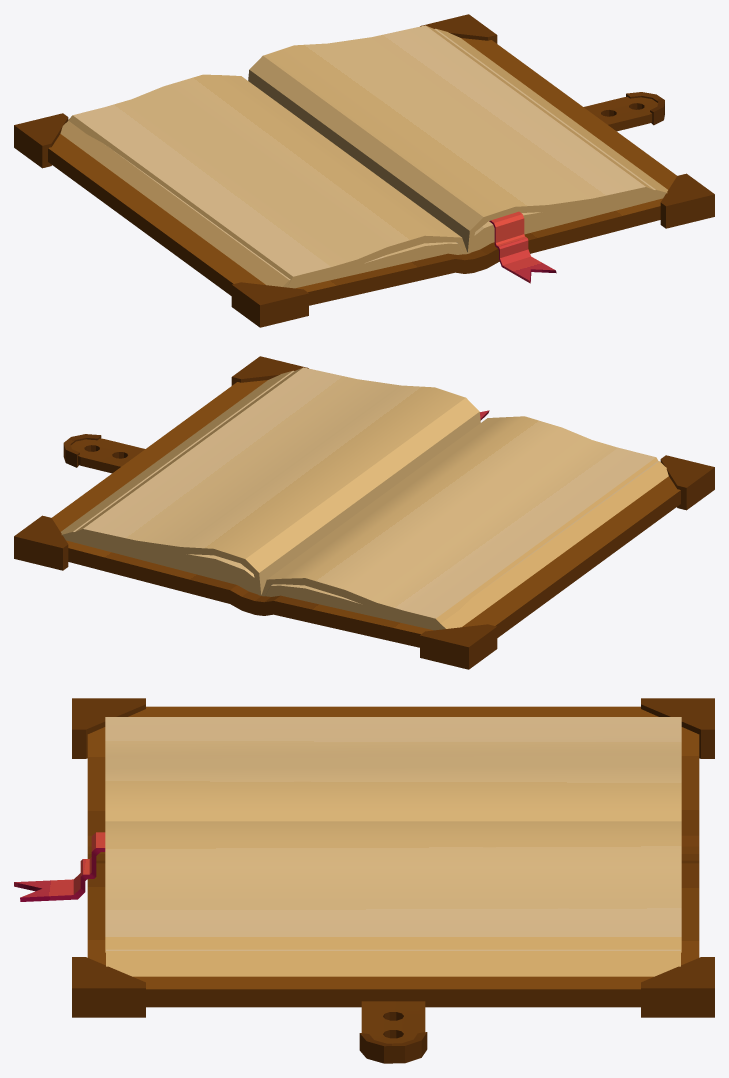
Rendered from SM_Bowling_Magical_Book.fbx.
The picture shows the model from 3 angles, top to bottom: view 1: azimuth 30°, elevation 25°; view 2: azimuth 150°, elevation 25°; view 3: azimuth 270°, elevation 25°; orthographic projection. The views are drawn at different scales.
Parts seen in each view (by area): view 1: pCube4, pCube9, pCube10, pCube12 (×2), pCube7 (×2), pCube11, pCylinder5; view 2: pCube4, pCube9, pCube10, pCube12 (×2), pCube7 (×2), pCylinder5, pCylinder6; view 3: pCube4, pCube9, pCube10, pCube7 (×2), pCube12 (×2), pCylinder5, pCube11, pCylinder6.
Part boxes in pixels (box(x1,y1,x2,y2)): pCube4: box(68, 25, 655, 284); pCube9: box(48, 38, 676, 305); pCube10: box(60, 28, 667, 288); pCube12 (×2): box(14, 113, 308, 327); pCube7 (×2): box(420, 14, 714, 228); pCube11: box(489, 211, 556, 283); pCylinder5: box(584, 97, 657, 131); pCube4: box(73, 367, 658, 623); pCube9: box(52, 380, 680, 647); pCube10: box(61, 370, 668, 630); pCube12 (×2): box(420, 455, 714, 669); pCube7 (×2): box(14, 356, 308, 570); pCylinder5: box(71, 438, 144, 473); pCylinder6: box(63, 434, 101, 467); pCube4: box(105, 717, 681, 952); pCube9: box(87, 706, 699, 1007); pCube10: box(106, 949, 680, 976); pCube7 (×2): box(72, 957, 714, 1017); pCube12 (×2): box(72, 698, 714, 758); pCylinder5: box(361, 1001, 425, 1043); pCube11: box(14, 832, 105, 901); pCylinder6: box(359, 1032, 427, 1063).
Bounding box in the file's own units: 63.55 × 5.73 × 56.31.
Materials: 1 (1 with a texture image).
